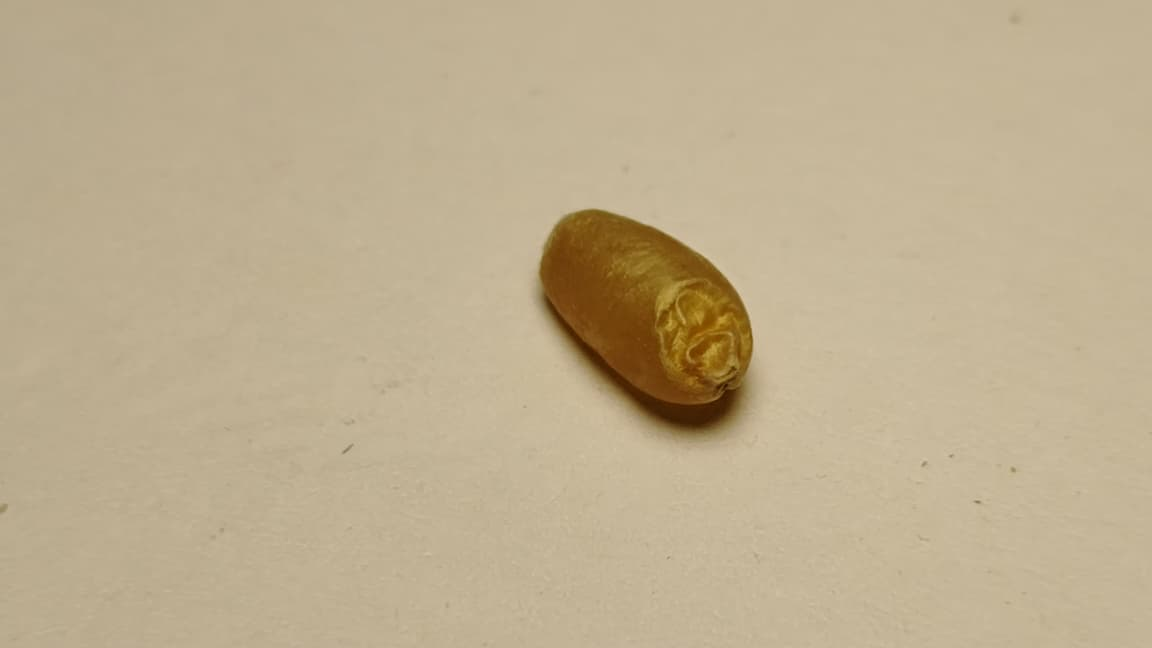healthy: (540, 209, 752, 403)
